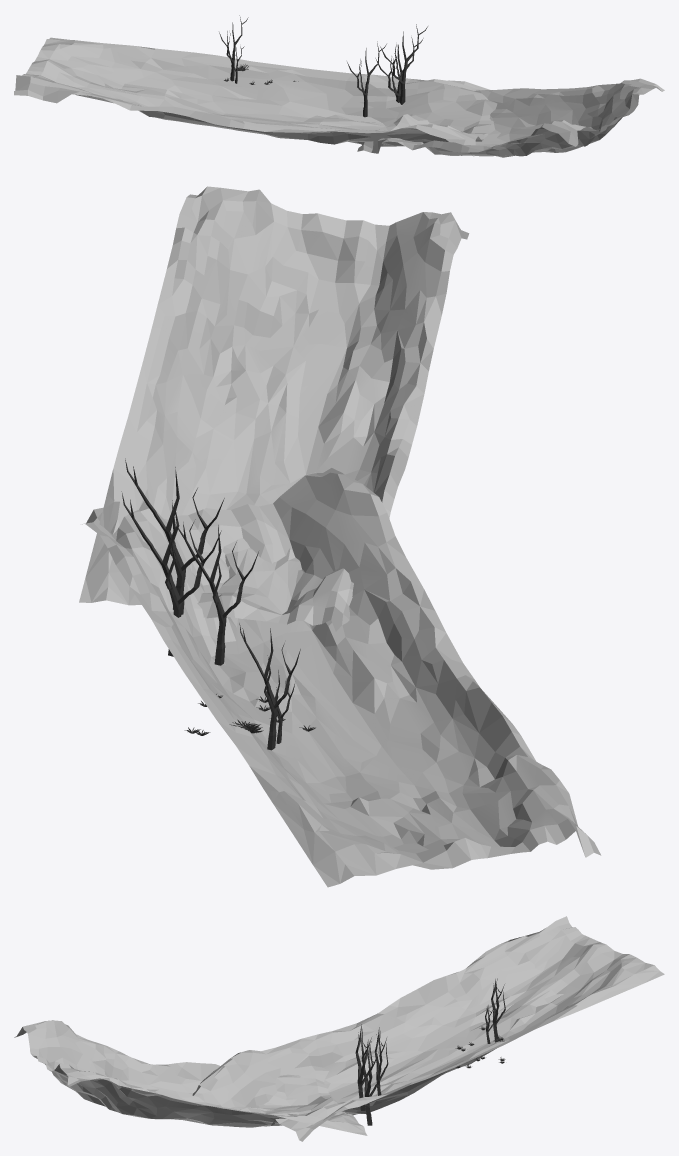
The model's file is river.glb.
The picture shows the model from 3 angles, top to bottom: view 1: azimuth 30°, elevation 25°; view 2: azimuth 150°, elevation 25°; view 3: azimuth 270°, elevation 25°; orthographic projection. The views are drawn at different scales.
Visible parts, largest first — view 1: Plane.001, Plane.002, Dead_Tree__2_, Dead_Tree__4_.001, Dead_Tree__3_.001, Dead_Tree; view 2: Plane.002, Plane.001, Dead_Tree__2_, Dead_Tree__4_.001, Dead_Tree__3_.001, Dead_Tree; view 3: Plane.001, Plane.002, Dead_Tree__2_, Dead_Tree__3_.001, Dead_Tree__4_.001, Dead_Tree.
Boxes of the visible parts, x1,y1,x2,y2 form: Plane.001: (14, 37, 497, 156); Plane.002: (357, 78, 664, 157); Dead_Tree__2_: (380, 24, 427, 104); Dead_Tree__4_.001: (347, 41, 386, 117); Dead_Tree__3_.001: (375, 37, 423, 102); Dead_Tree: (219, 15, 248, 81); Plane.002: (79, 186, 469, 631); Plane.001: (82, 468, 601, 887); Dead_Tree__2_: (125, 458, 224, 614); Dead_Tree__4_.001: (175, 517, 258, 665); Dead_Tree__3_.001: (121, 491, 221, 656); Dead_Tree: (239, 623, 300, 750); Plane.001: (192, 916, 664, 1141); Plane.002: (14, 1020, 367, 1135); Dead_Tree__2_: (355, 1024, 372, 1110); Dead_Tree__3_.001: (363, 1039, 379, 1125); Dead_Tree__4_.001: (374, 1027, 388, 1095); Dead_Tree: (491, 978, 505, 1041).
Bounding box in the file's own units: 41.41 × 9.63 × 49.91.
23 materials, 21 textured.
